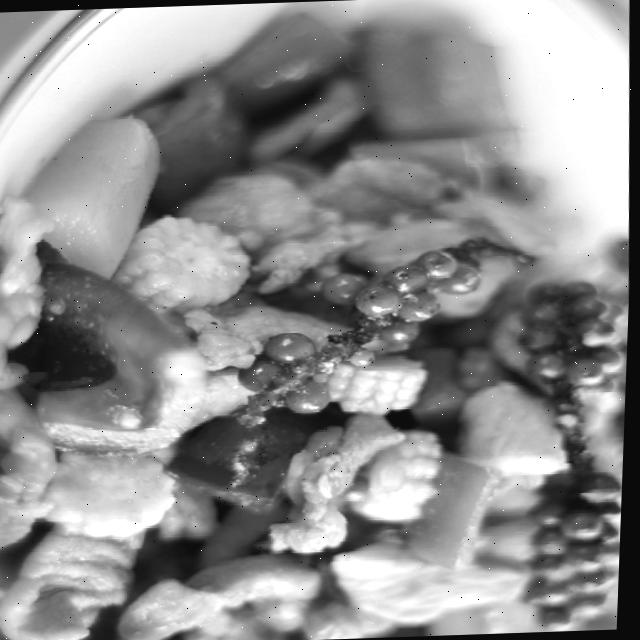蔬菜料理: (0, 28, 639, 640)
